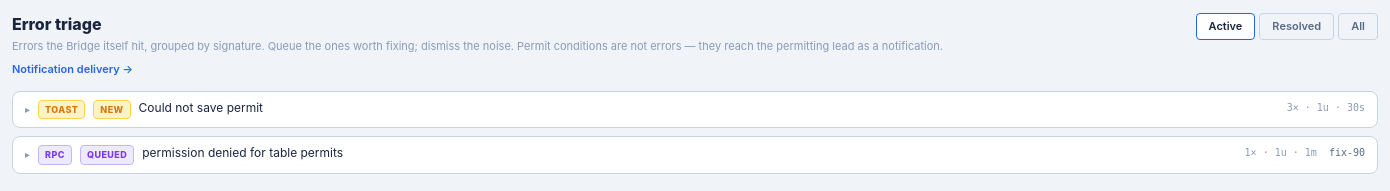
Test: <ErrorsPage /> (fix-87) › switching to Resolved tab refetches with the resolved status set
The width and height of the screenshot is (1390, 191).
Check: the list item with test id "error-group-f-aaa" is shown, box [12,90,1378,128]
Click the button with test id "errors-tab-resolved".
click(1297, 26)  # box [1259,13,1334,40]
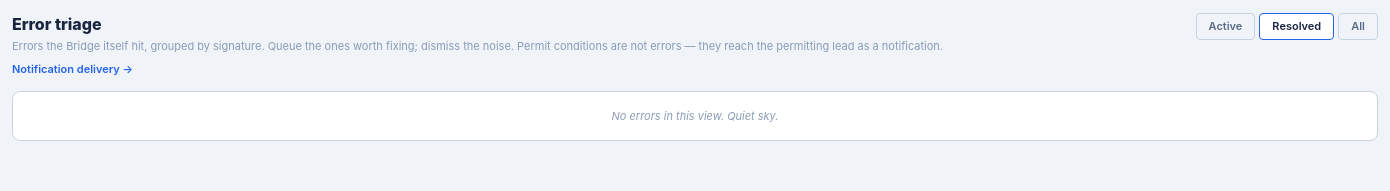
Check: the text "No errors in this view. Quiet sky." is shown, box [12,90,1378,141]
